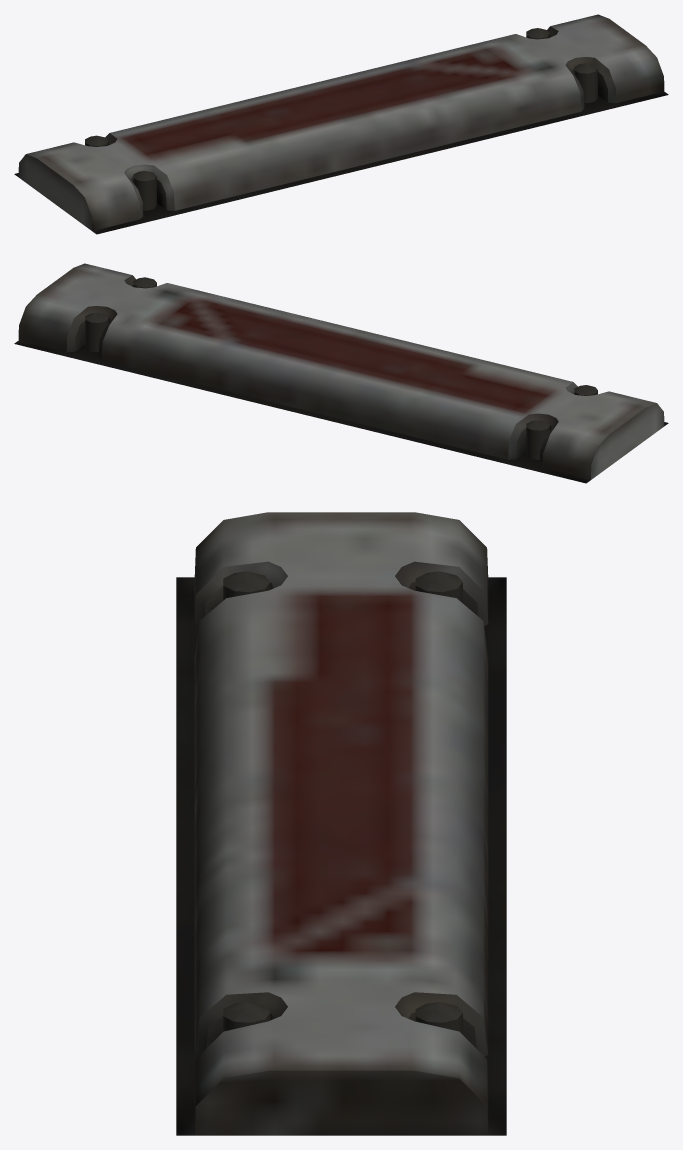
The model's file is Panel_03.FBX.
3 views of the same model, one above another, from view 1: azimuth 30°, elevation 25°; view 2: azimuth 150°, elevation 25°; view 3: azimuth 270°, elevation 25° (orthographic). The views are drawn at different scales.
Visible parts, largest first — view 1: Panel_03; view 2: Panel_03; view 3: Panel_03.
Part boxes in pixels (x1=…): Panel_03: x1=14, y1=14, x2=668, y2=234; Panel_03: x1=14, y1=263, x2=668, y2=483; Panel_03: x1=176, y1=512, x2=506, y2=1135.
Bounding box in the file's own units: 200 × 11.75 × 50.
